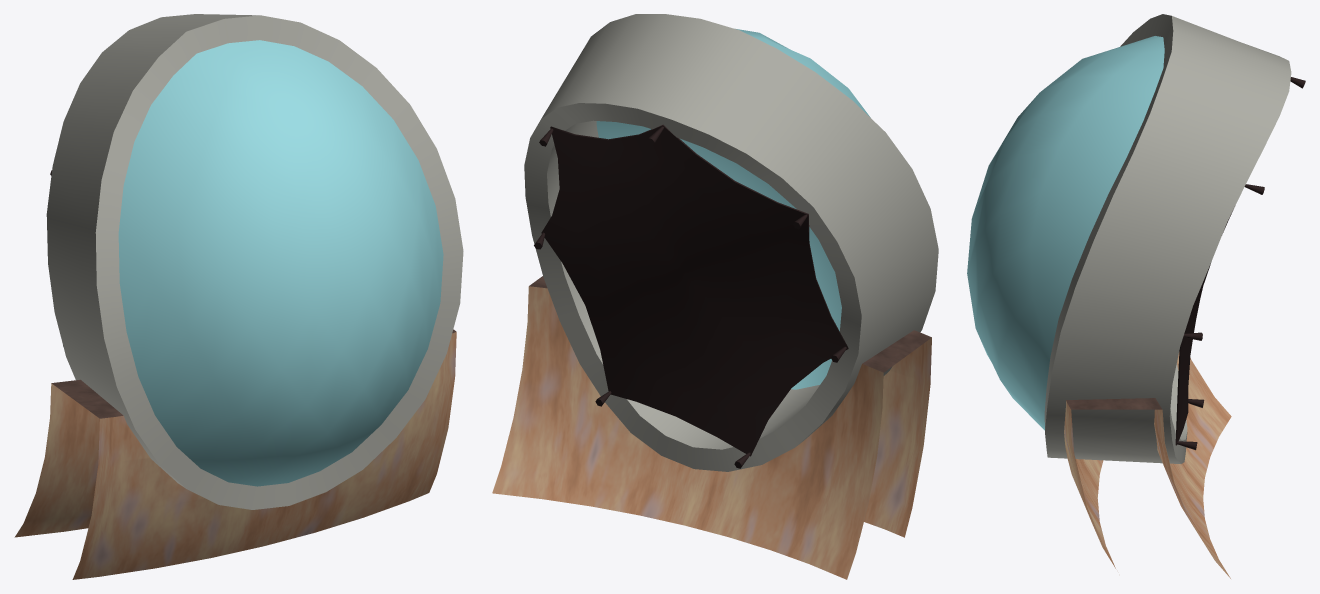
The model's file is FI_082_francos_building_wall_window_big_covered.glb.
3 views of the same model, side by side, from view 1: azimuth 30°, elevation 25°; view 2: azimuth 150°, elevation 25°; view 3: azimuth 270°, elevation 25° (orthographic). The views are drawn at different scales.
Parts seen in each view (by area): view 1: glass_big_out.002, window_frame.002, wall_big_hole.002, glass_big_in.002; view 2: window_frame.002, window_cover, wall_big_hole.002, glass_big_out.002, glass_big_in.002; view 3: window_frame.002, glass_big_out.002, glass_big_in.002, wall_big_hole.002, window_cover.
Part boxes in pixels (<box>): glass_big_out.002: <box>118,40,443,486</box>; window_frame.002: <box>46,14,463,509</box>; wall_big_hole.002: <box>14,329,456,579</box>; glass_big_in.002: <box>119,41,442,485</box>; window_frame.002: <box>524,14,938,471</box>; window_cover: <box>534,124,848,468</box>; wall_big_hole.002: <box>492,276,931,579</box>; glass_big_out.002: <box>596,28,870,389</box>; glass_big_in.002: <box>597,31,863,388</box>; window_frame.002: <box>1044,14,1291,463</box>; glass_big_out.002: <box>967,36,1164,430</box>; glass_big_in.002: <box>967,36,1163,427</box>; wall_big_hole.002: <box>1064,352,1231,578</box>; window_cover: <box>1175,77,1305,450</box>.
Size of the model in its own units: 3.02 by 4 by 2.63.
5 materials, 2 textured.
